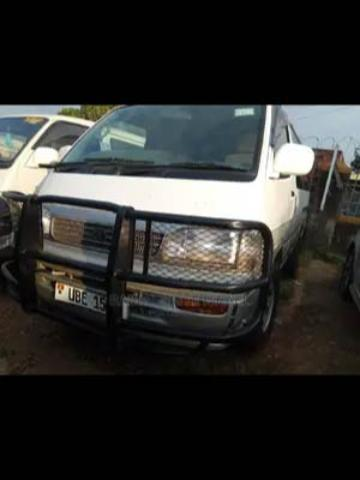van: (1, 107, 315, 347)
